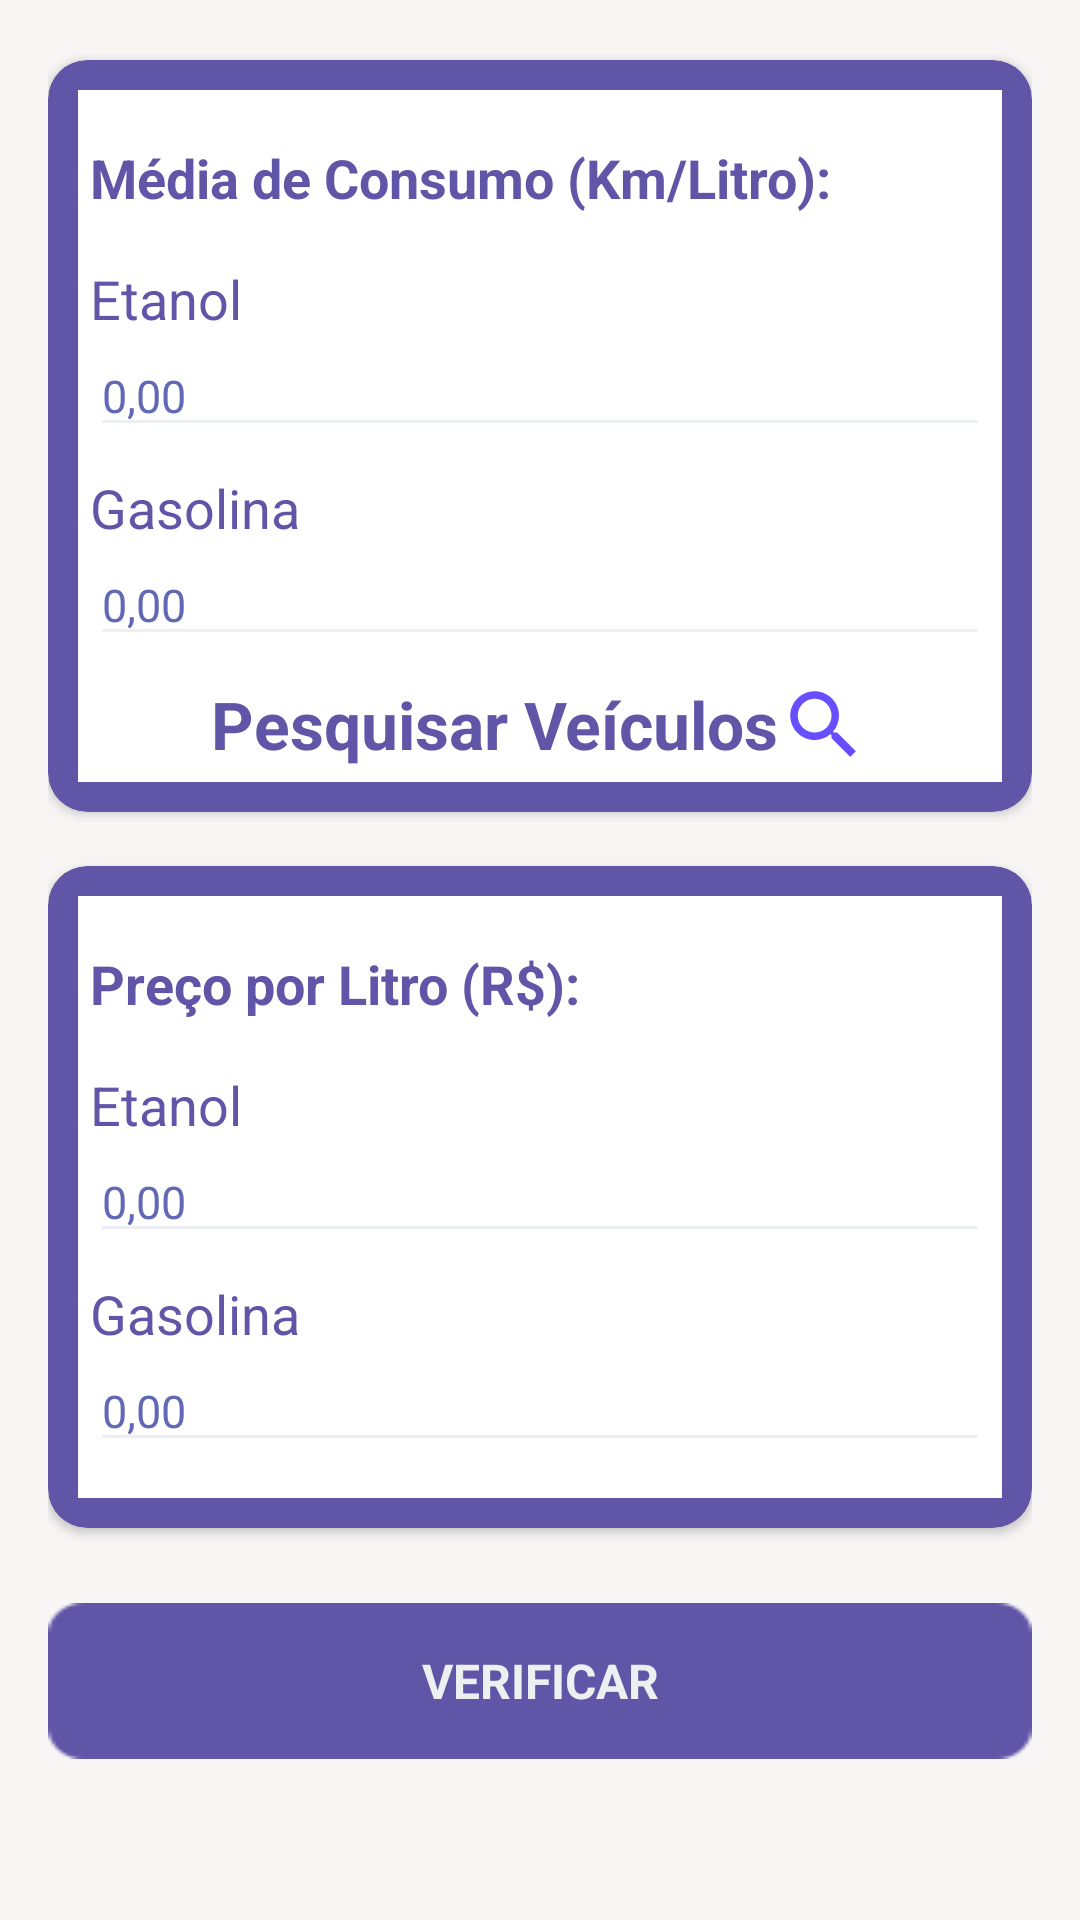

Screen size 1080px x 1920px. Icon name, then its box in pixels as bbox=[x1, y1, x2, y2]:
search: bbox=[790, 691, 856, 757]
